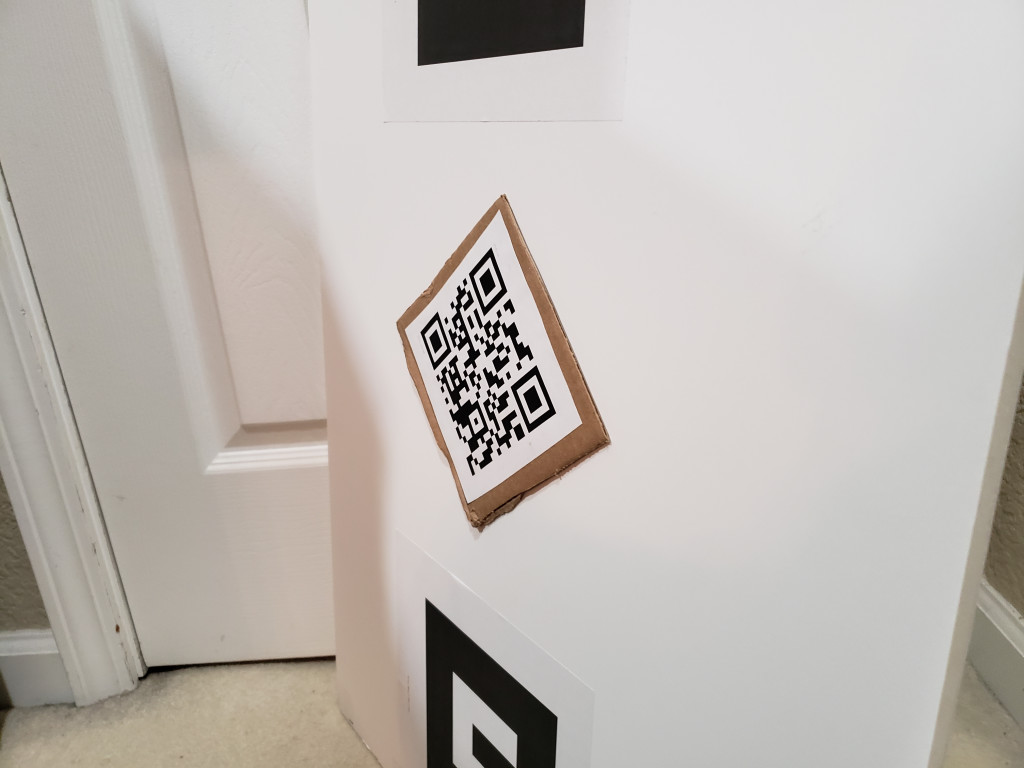QR_CODE: (408, 234, 567, 485)
